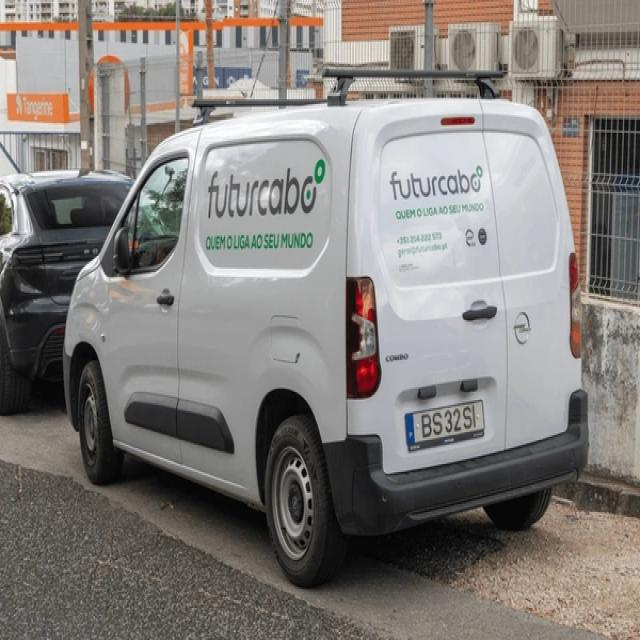opel: (512, 307, 532, 352)
